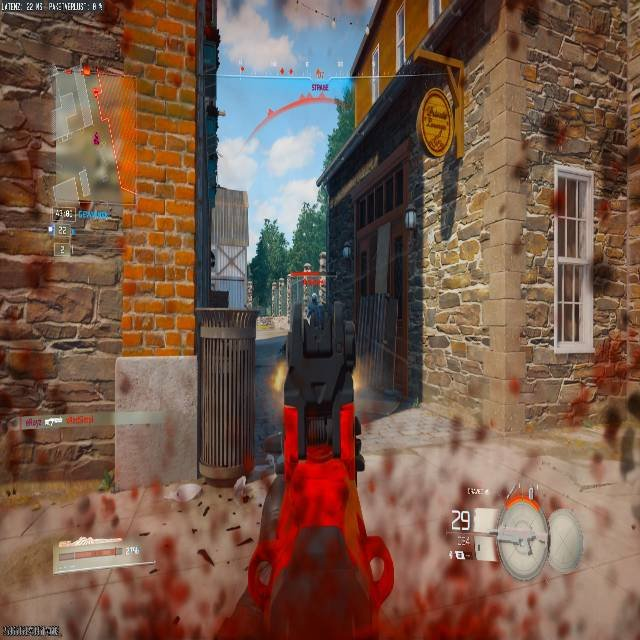player: (590, 315, 639, 468), (307, 292, 322, 327)
